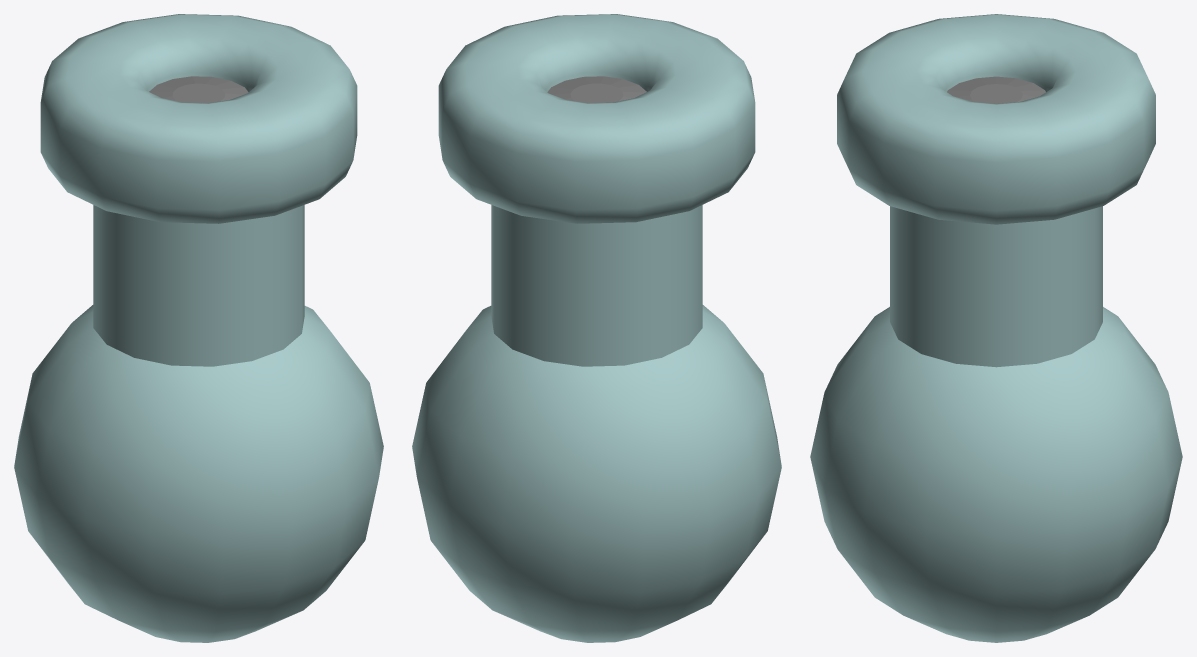
The model's file is LastLuna_Model_Station_Glass_Flask_Round_Small.fbx.
3 renders of one model, left to right at view 1: azimuth 30°, elevation 25°; view 2: azimuth 150°, elevation 25°; view 3: azimuth 270°, elevation 25°, orthographic.
Visible parts, largest first — view 1: Flask_Round_Small001, Flask_Round_Small_Content001; view 2: Flask_Round_Small001, Flask_Round_Small_Content001; view 3: Flask_Round_Small001, Flask_Round_Small_Content001.
Part boxes in pixels (x1=…): Flask_Round_Small001: x1=14, y1=14, x2=383, y2=642; Flask_Round_Small_Content001: x1=149, y1=76, x2=248, y2=103; Flask_Round_Small001: x1=412, y1=14, x2=781, y2=642; Flask_Round_Small_Content001: x1=547, y1=76, x2=646, y2=103; Flask_Round_Small001: x1=810, y1=14, x2=1182, y2=642; Flask_Round_Small_Content001: x1=947, y1=76, x2=1045, y2=103.
Size of the model in its own units: 35 by 57.5 by 35.
